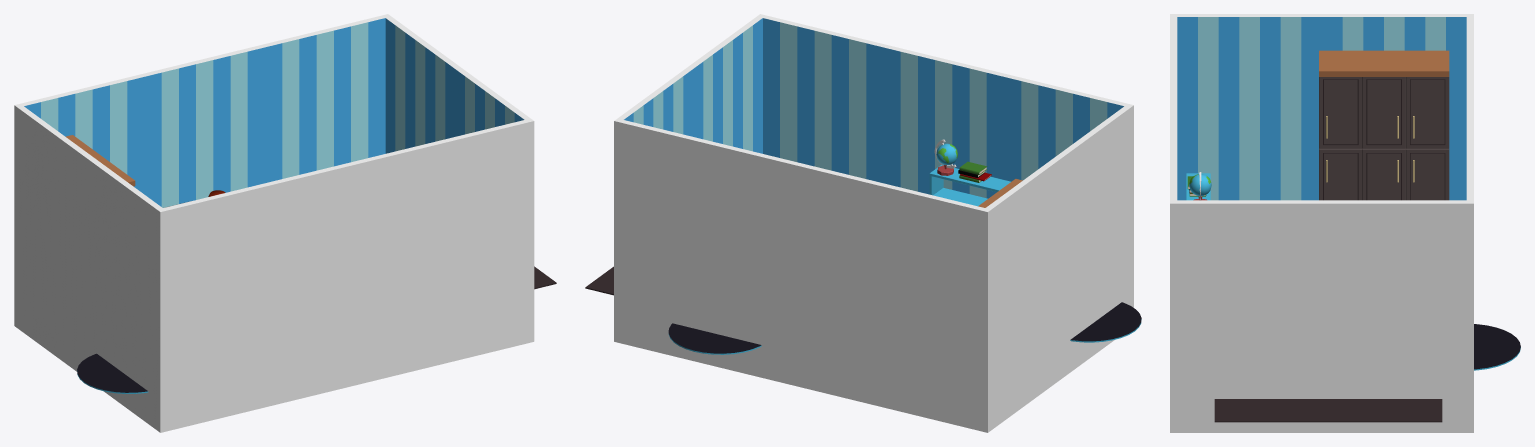
Rendered from Room.fbx.
3 views of the same model, side by side, from view 1: azimuth 30°, elevation 25°; view 2: azimuth 150°, elevation 25°; view 3: azimuth 270°, elevation 25° (orthographic). The views are drawn at different scales.
Visible parts, largest first — view 1: Prop_WallCornor_02__2_, Prop_WallCornor_02__1_, Prop_Wall_02__1_, Prop_WallCornor_02, Prop_WallCornor_02__3_, Prop_Wall_02, Entery_Door; view 2: Prop_WallCornor_02__3_, Prop_WallCornor_02, Prop_Wall_02, Prop_WallCornor_02__1_, Prop_WallCornor_02__2_, Prop_Wall_02__1_, Bachroon_Door, Entery_Door, Prop_Shelve_06, Prop_EarthMapBall; view 3: Prop_WallCornor_02__1_, Prop_WallCornor_02, Prop_WallCornor_02__2_, Prop_WallCornor_02__3_, Prop_KitchenCabinet_02_M__1_, Prop_KitchenCabinet_02_M, Prop_KitchenCabinet_02_M__2_, Window, Bachroon_Door, Prop_Wall_02, Prop_Wall_02__1_, Prop_EarthMapBall.
Part boxes in pixels (box(x1,y1,x2,y2)): Prop_WallCornor_02__2_: box(87, 157, 286, 432); Prop_WallCornor_02__1_: box(404, 67, 534, 372); Prop_Wall_02__1_: box(284, 149, 407, 401); Prop_WallCornor_02: box(262, 14, 460, 183); Prop_WallCornor_02__3_: box(14, 74, 144, 371); Prop_Wall_02: box(141, 45, 264, 207); Entery_Door: box(77, 353, 148, 393); Prop_WallCornor_02__3_: box(861, 157, 1060, 432); Prop_WallCornor_02: box(614, 67, 743, 372); Prop_Wall_02: box(740, 149, 864, 401); Prop_WallCornor_02__1_: box(687, 14, 886, 182); Prop_WallCornor_02__2_: box(1004, 74, 1133, 378); Prop_Wall_02__1_: box(883, 45, 1006, 198); Bachroon_Door: box(668, 323, 761, 354); Entery_Door: box(1070, 302, 1141, 342); Prop_Shelve_06: box(929, 165, 1010, 206); Prop_EarthMapBall: box(934, 139, 957, 175); Prop_WallCornor_02__1_: box(1170, 139, 1321, 432); Prop_WallCornor_02: box(1322, 139, 1473, 432); Prop_WallCornor_02__2_: box(1170, 14, 1321, 200); Prop_WallCornor_02__3_: box(1322, 14, 1473, 200); Prop_KitchenCabinet_02_M__1_: box(1362, 50, 1405, 200); Prop_KitchenCabinet_02_M: box(1319, 50, 1362, 200); Prop_KitchenCabinet_02_M__2_: box(1406, 50, 1449, 200); Window: box(1214, 399, 1442, 422); Bachroon_Door: box(1474, 324, 1520, 370); Prop_Wall_02: box(1466, 78, 1473, 139); Prop_Wall_02__1_: box(1170, 78, 1177, 139); Prop_EarthMapBall: box(1189, 172, 1211, 200).
Bounding box in the file's own units: 757 × 350 × 485.
Materials: 1 (1 with a texture image).
